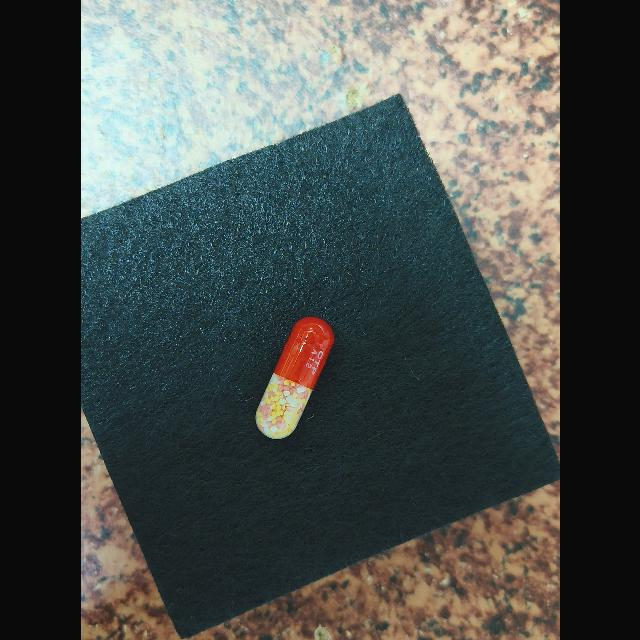Intact Capsule: (255, 317, 334, 439)
